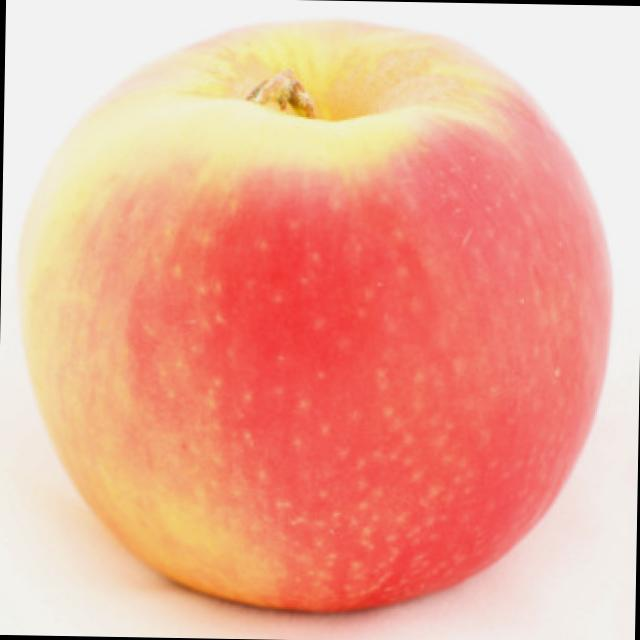apple: (8, 7, 628, 618)
